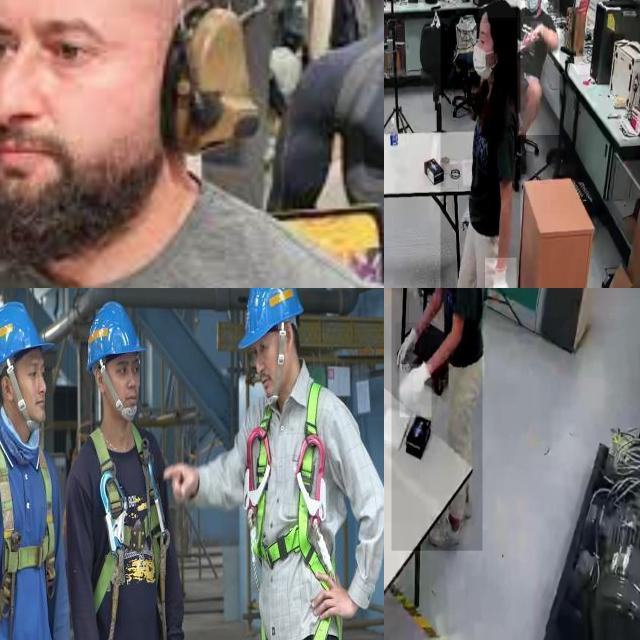Ear-protection: (0, 0, 257, 285)
Harness: (248, 380, 343, 640), (75, 421, 173, 640), (0, 421, 63, 640)
No_Ear-Protection: (92, 367, 109, 395), (0, 373, 16, 401)
No_Glasses: (0, 0, 126, 99), (112, 356, 144, 382), (247, 340, 278, 364), (21, 359, 51, 383)
face_mask: (467, 23, 494, 82), (525, 0, 541, 15)
hand_glove: (400, 364, 432, 418), (395, 322, 419, 373), (485, 257, 517, 288)
hand_noglove: (530, 21, 544, 42), (520, 33, 536, 49)
head_nohelmet: (478, 0, 516, 18)
person: (0, 0, 362, 288), (391, 288, 482, 551), (440, 0, 521, 288), (517, 0, 560, 136)
shoes: (424, 506, 466, 555)
